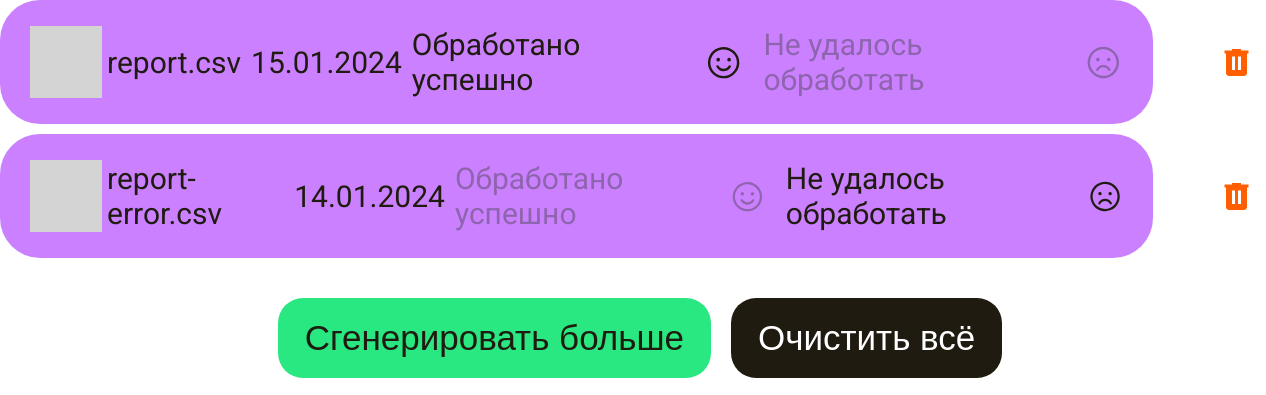
Test case: HistoryPage Integration Tests › Action Buttons › should clear all history on click "Clear All"
Expected: the text "report.csv" is shown, [107,44,241,80]
Click the button "Очистить всё": (867,338) [731,298,1002,378]
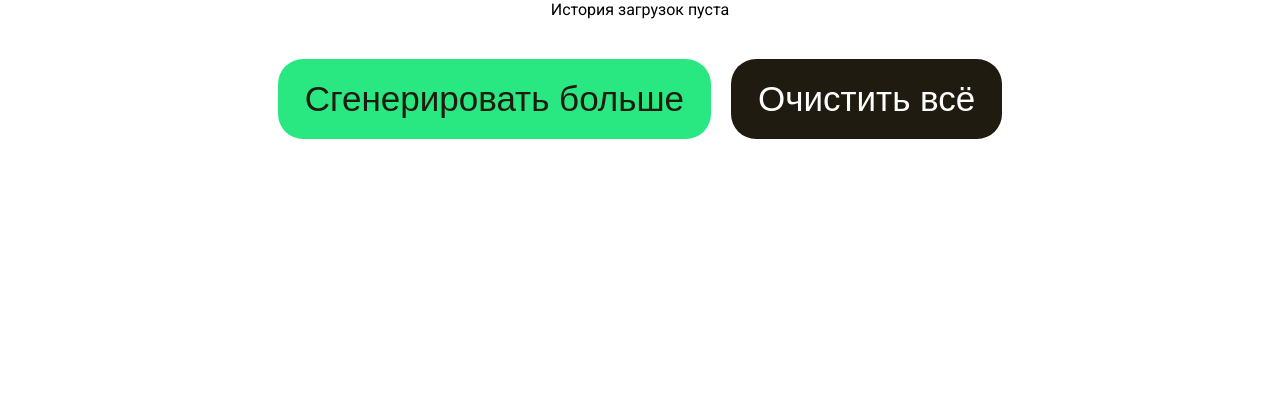
Expected: the text "История загрузок пуста" is shown, [551,0,729,19]
